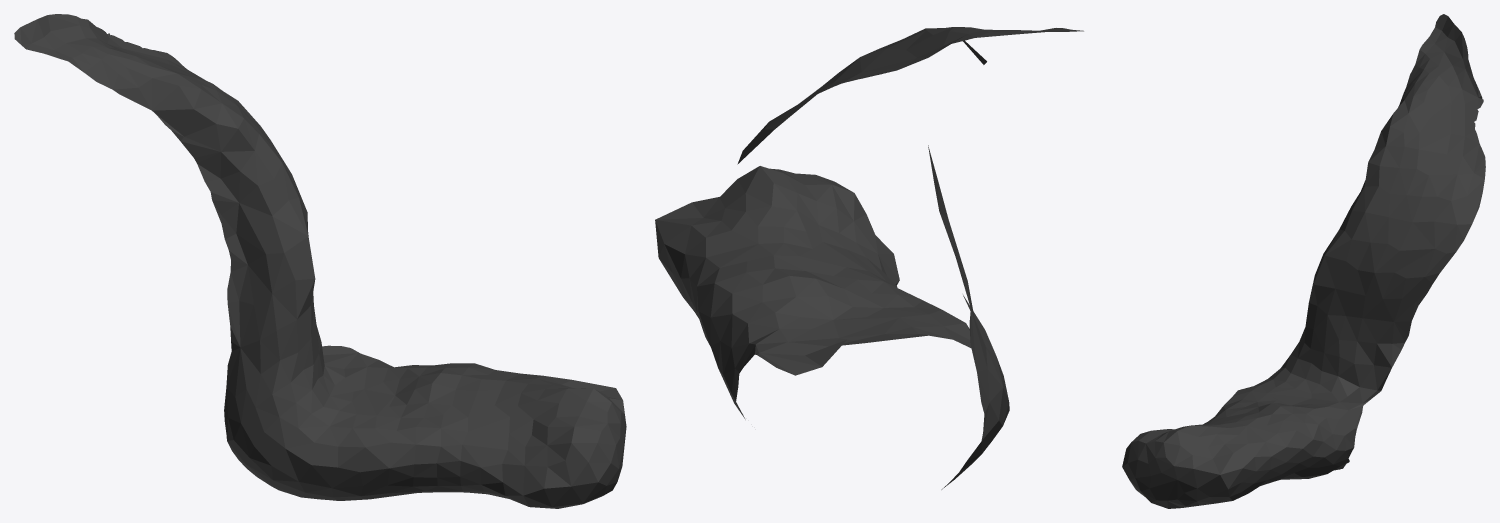
File: M_cleidocephalicus_M_cleidocephalicus.glb
The picture shows the model from 3 angles, left to right: view 1: azimuth 30°, elevation 25°; view 2: azimuth 150°, elevation 25°; view 3: azimuth 270°, elevation 25°; orthographic projection. The views are drawn at different scales.
Parts seen in each view (by area): view 1: M_cleidocephalicus_M_cleidocephalicus; view 2: M_cleidocephalicus_M_cleidocephalicus; view 3: M_cleidocephalicus_M_cleidocephalicus.
Boxes of the visible parts, x1,y1,x2,y2 form: M_cleidocephalicus_M_cleidocephalicus: (14, 14, 626, 508); M_cleidocephalicus_M_cleidocephalicus: (655, 27, 1083, 489); M_cleidocephalicus_M_cleidocephalicus: (1122, 14, 1485, 508).
Bounding box in the file's own units: 0.027 × 0.0261 × 0.0234.
Materials: 1 (1 with a texture image).
